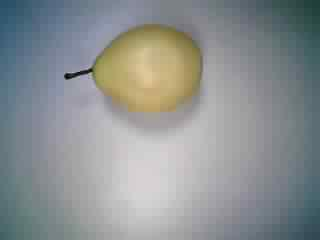pear: (60, 19, 211, 122)
